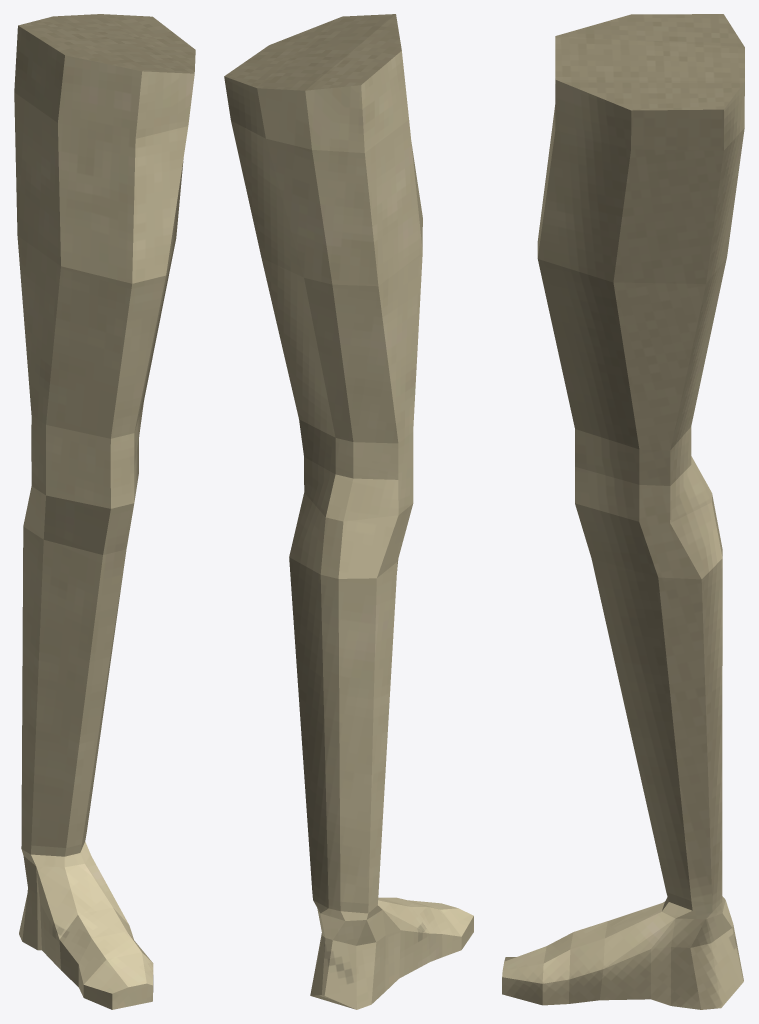
Rendered from mannequin_leg.fbx.
3 renders of one model, left to right at view 1: azimuth 30°, elevation 25°; view 2: azimuth 150°, elevation 25°; view 3: azimuth 270°, elevation 25°, orthographic. The views are drawn at different scales.
Visible parts, largest first — view 1: leg; view 2: leg; view 3: leg.
Part boxes in pixels (<box>): leg: <box>14,14,195,1009</box>; leg: <box>224,14,473,1009</box>; leg: <box>502,14,744,1009</box>.
Size of the model in its own units: 21.3 by 122 by 27.8.
Materials: 1 (1 with a texture image).
